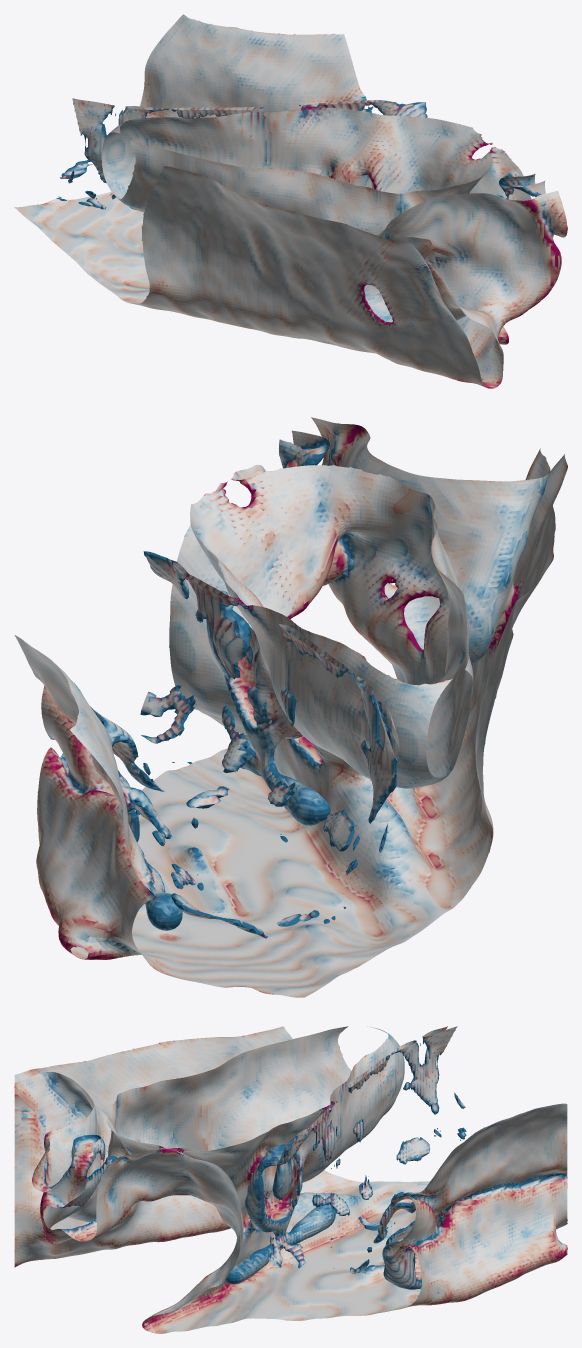
File: crop1136_curvature.glb
The picture shows the model from 3 angles, top to bottom: view 1: azimuth 30°, elevation 25°; view 2: azimuth 150°, elevation 25°; view 3: azimuth 270°, elevation 25°; orthographic projection. The views are drawn at different scales.
Parts seen in each view (by area): view 1: world; view 2: world; view 3: world.
Boxes of the visible parts, box(x1,y1,x2,y2) form: world: box(14, 14, 567, 388); world: box(14, 417, 567, 997); world: box(14, 1026, 567, 1333).
Size of the model in its own units: 1640 by 1130 by 3079.
